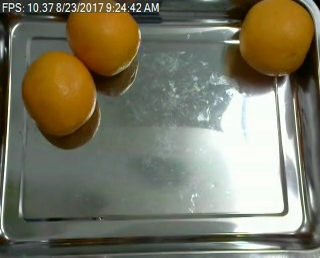Orange: (22, 50, 97, 134), (66, 1, 140, 77), (239, 1, 313, 76)
